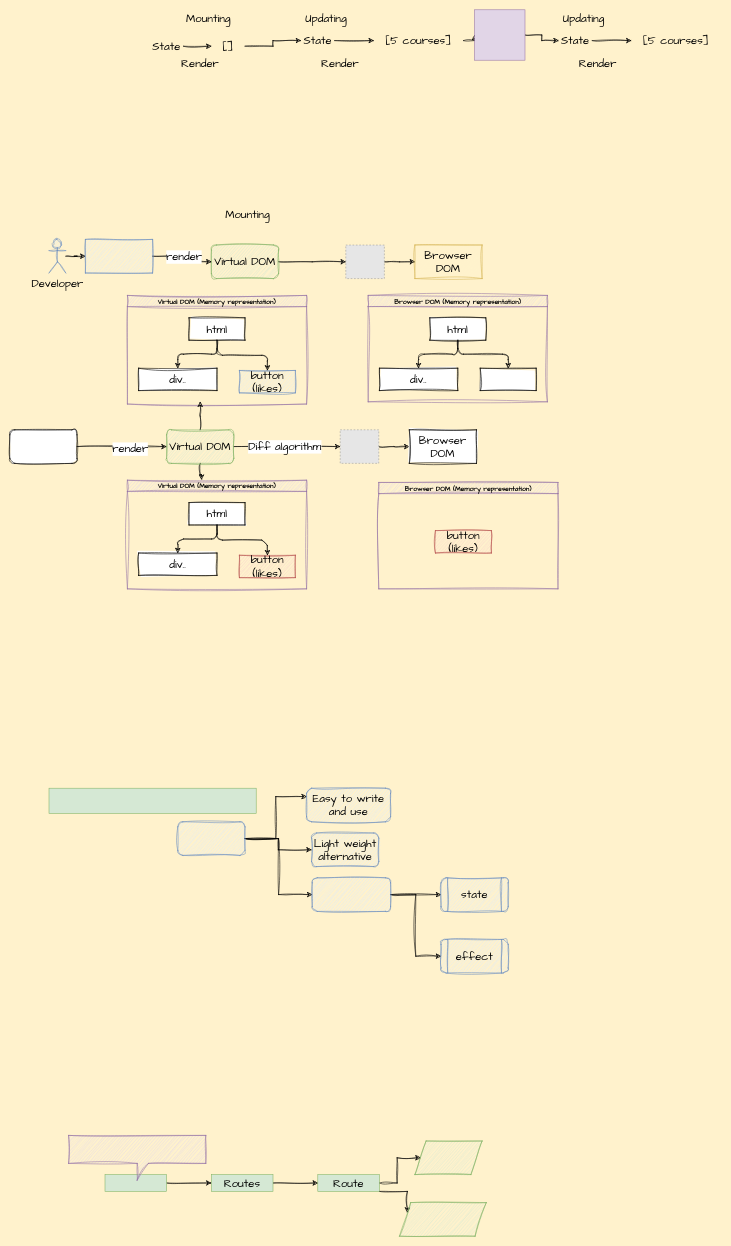
Image size: 731x1246. Some labels were removed from this diagram. Grey dashed boxes stand in for pictures. Each missing label, with the box of its shape:
Change the UI based on the url: (68, 1135, 206, 1180)
Click Button: (9, 429, 77, 463)
Click the button: (474, 9, 525, 60)
Components: (85, 239, 153, 273)
div...: (480, 368, 536, 391)
element (component): (399, 1202, 486, 1236)
Functional Component: (177, 821, 245, 855)
Hooks v16.8: (312, 877, 391, 911)
Inspired from Functional Programming Paradigm: (48, 788, 256, 813)
path: (414, 1140, 482, 1175)
Routing: (104, 1174, 167, 1191)
